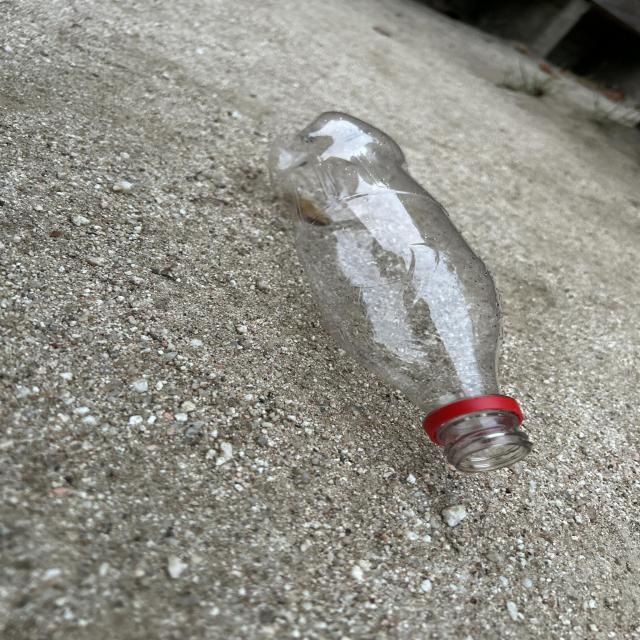empty: (269, 112, 531, 472)
